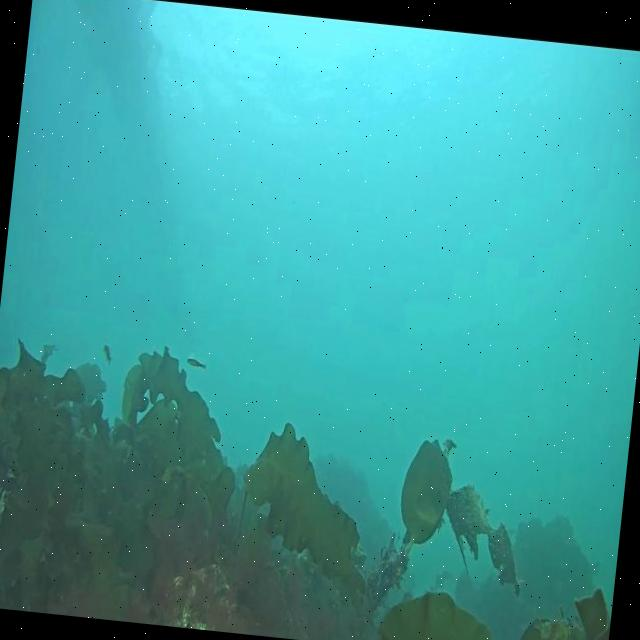fish: (101, 343, 113, 364), (188, 356, 207, 368)
